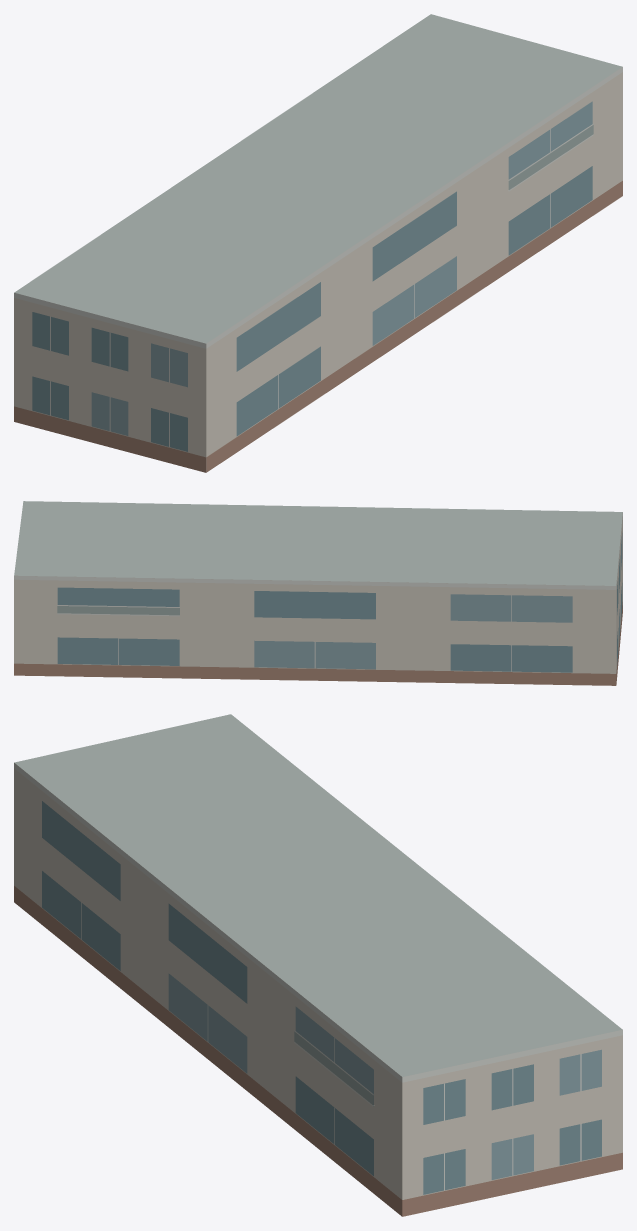
The model's file is survey-upis-32490418.glb.
3 views of the same model, one above another, from view 1: azimuth 30°, elevation 25°; view 2: azimuth 150°, elevation 25°; view 3: azimuth 270°, elevation 25° (orthographic). The views are drawn at different scales.
Visible parts, largest first — view 1: survey-upis-32490418.tmp; view 2: survey-upis-32490418.tmp; view 3: survey-upis-32490418.tmp.
Part boxes in pixels (x1,y1,x2,y2): survey-upis-32490418.tmp: (14,14,622,472); survey-upis-32490418.tmp: (14,501,622,685); survey-upis-32490418.tmp: (14,714,622,1216).
Size of the model in its own units: 34.01 by 6.1 by 24.1.
